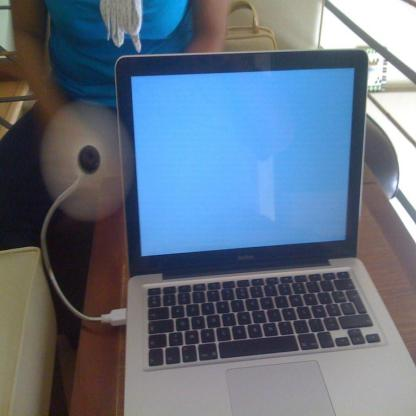board: (105, 46, 416, 416)
